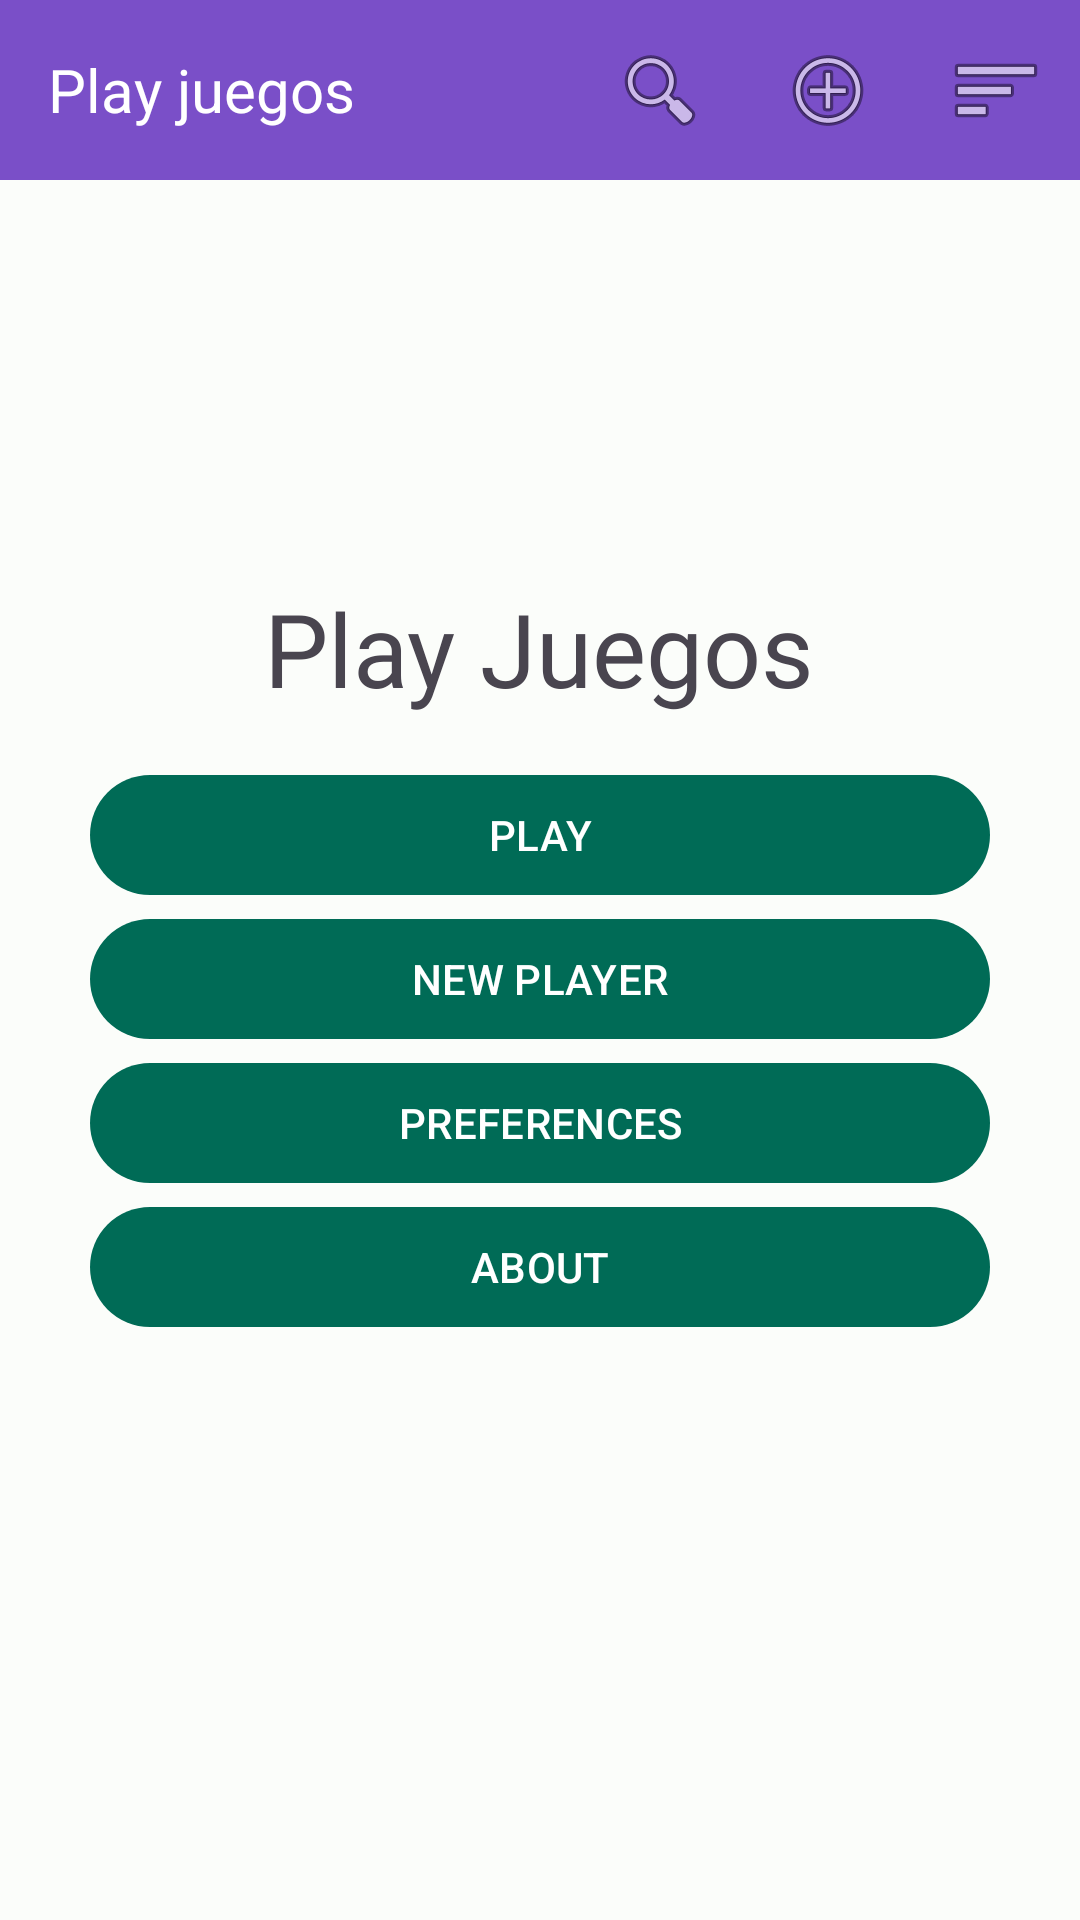

Where to tap for icons on this 1080w x 1920h app screen, as (x,y):
add: (828,90)
search: (660,90)
sort by size: (996,90)
